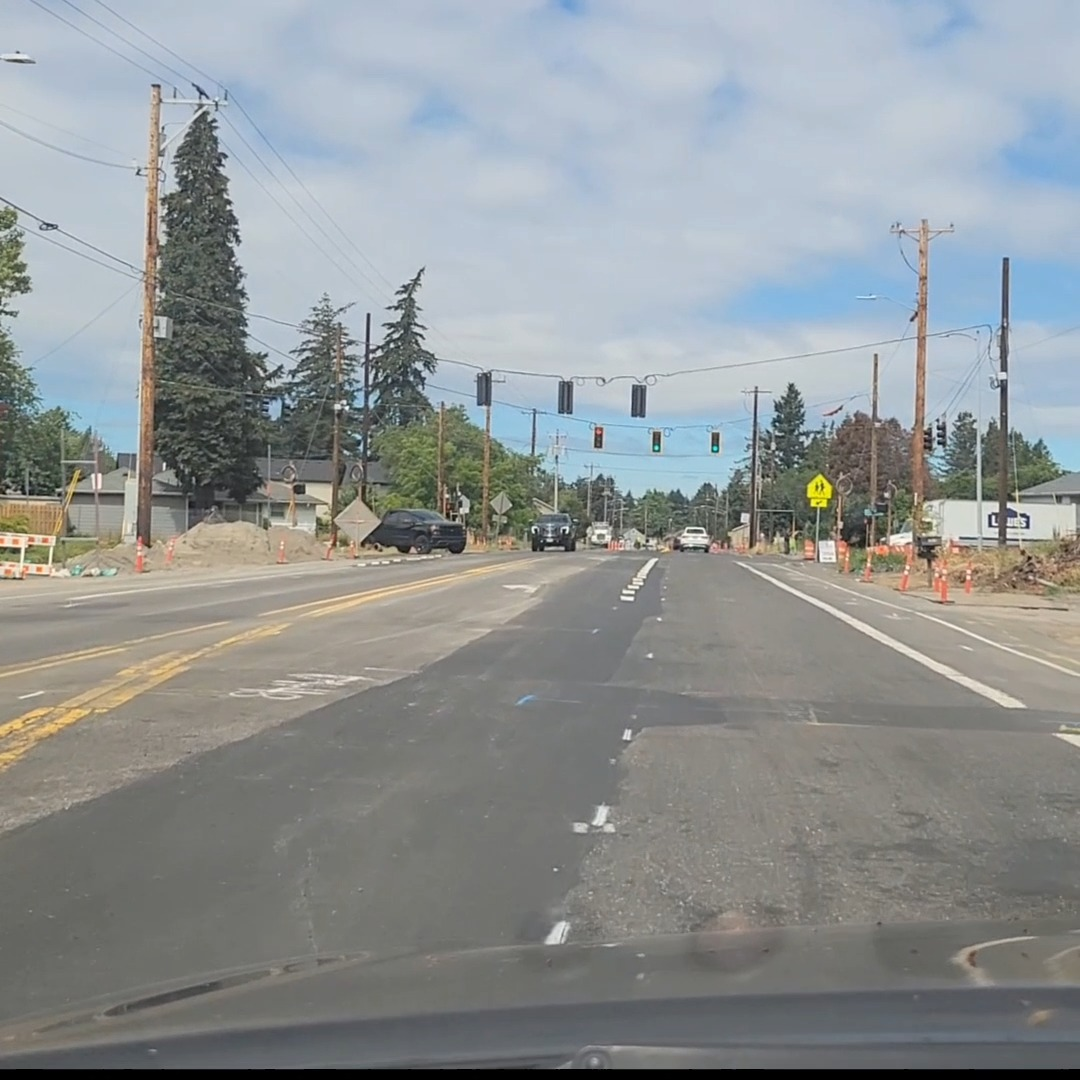car: (364, 508, 464, 554), (528, 513, 582, 551), (672, 526, 712, 552), (588, 522, 612, 547)
crosswalk-sign: (806, 473, 832, 508)
delineator: (861, 543, 875, 582), (937, 567, 949, 602), (135, 538, 146, 573), (898, 560, 910, 592), (164, 537, 174, 566), (276, 539, 286, 563), (323, 539, 333, 559), (964, 568, 972, 593), (843, 547, 850, 573), (348, 539, 356, 559), (136, 535, 144, 552), (20, 564, 28, 578), (738, 539, 746, 553)
